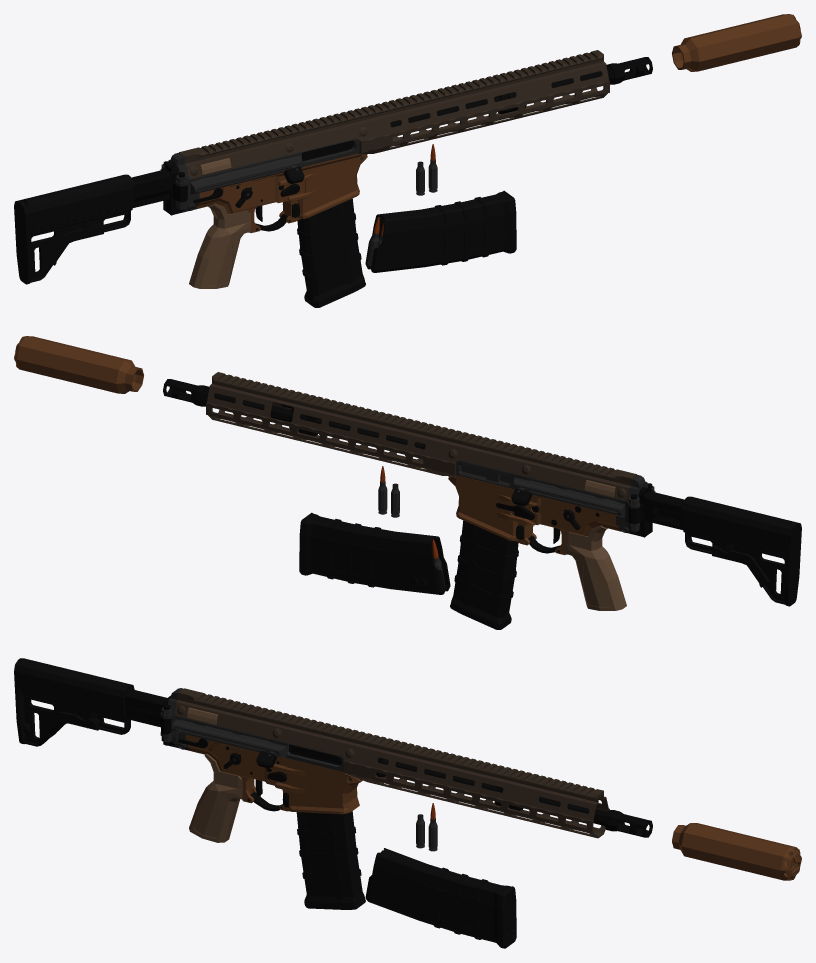
The model's file is fn licc.obj.
3 renders of one model, top to bottom at view 1: azimuth 30°, elevation 25°; view 2: azimuth 150°, elevation 25°; view 3: azimuth 330°, elevation 25°, orthographic.
Parts seen in each view (by area): view 1: iws_upper_receiever, 6543_25rnd_mag_(polymer), iws_stock, iws_lower_receiver, 6543_25rnd_empty_mag_(polymer), iws_silencer, iws_pistol_grip, iws_stock_base, iws_14.5in_barrel, iws_flash_hider; view 2: iws_upper_receiever, 6543_25rnd_mag_(polymer), iws_stock, iws_lower_receiver, 6543_25rnd_empty_mag_(polymer), iws_silencer, iws_pistol_grip, iws_stock_base, iws_14.5in_barrel, iws_flash_hider; view 3: iws_upper_receiever, 6543_25rnd_mag_(polymer), iws_stock, iws_lower_receiver, 6543_25rnd_empty_mag_(polymer), iws_silencer, iws_pistol_grip, iws_stock_base, iws_14.5in_barrel, iws_flash_hider.
Part boxes in pixels (bbox=[...]): iws_upper_receiever: bbox=[178, 50, 609, 194]; 6543_25rnd_mag_(polymer): bbox=[365, 190, 516, 272]; iws_stock: bbox=[14, 174, 134, 284]; iws_lower_receiver: bbox=[160, 149, 367, 232]; 6543_25rnd_empty_mag_(polymer): bbox=[297, 198, 365, 307]; iws_silencer: bbox=[672, 14, 801, 71]; iws_pistol_grip: bbox=[189, 203, 250, 288]; iws_stock_base: bbox=[131, 161, 187, 215]; iws_14.5in_barrel: bbox=[353, 68, 611, 146]; iws_flash_hider: bbox=[606, 57, 652, 84]; iws_upper_receiever: bbox=[206, 372, 637, 516]; 6543_25rnd_mag_(polymer): bbox=[299, 512, 450, 594]; iws_stock: bbox=[681, 496, 801, 606]; iws_lower_receiver: bbox=[448, 475, 655, 554]; 6543_25rnd_empty_mag_(polymer): bbox=[450, 520, 518, 629]; iws_silencer: bbox=[14, 336, 143, 393]; iws_pistol_grip: bbox=[565, 525, 626, 610]; iws_stock_base: bbox=[628, 483, 684, 537]; iws_14.5in_barrel: bbox=[204, 390, 425, 449]; iws_flash_hider: bbox=[163, 379, 209, 406]; iws_upper_receiever: bbox=[171, 688, 609, 838]; 6543_25rnd_mag_(polymer): bbox=[365, 848, 516, 948]; iws_stock: bbox=[14, 658, 134, 746]; iws_lower_receiver: bbox=[160, 688, 362, 814]; 6543_25rnd_empty_mag_(polymer): bbox=[296, 811, 365, 909]; iws_silencer: bbox=[672, 823, 801, 880]; iws_pistol_grip: bbox=[189, 754, 242, 842]; iws_stock_base: bbox=[125, 689, 174, 747]; iws_14.5in_barrel: bbox=[376, 757, 607, 825]; iws_flash_hider: bbox=[603, 810, 652, 837].
Size of the model in its own units: 11.23 by 2.51 by 0.8856.
